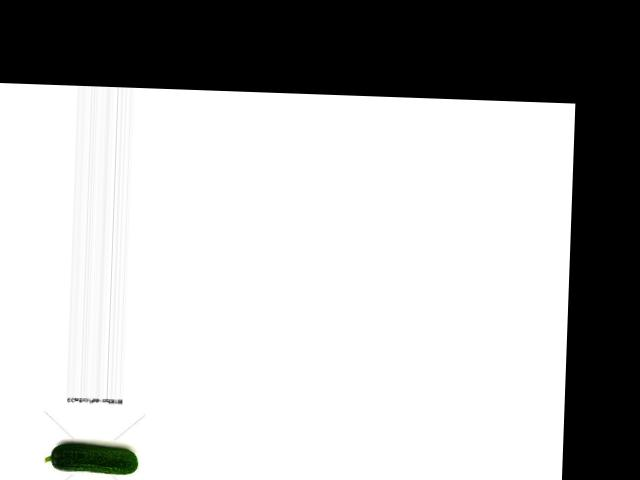cucumber: (44, 442, 139, 474)
